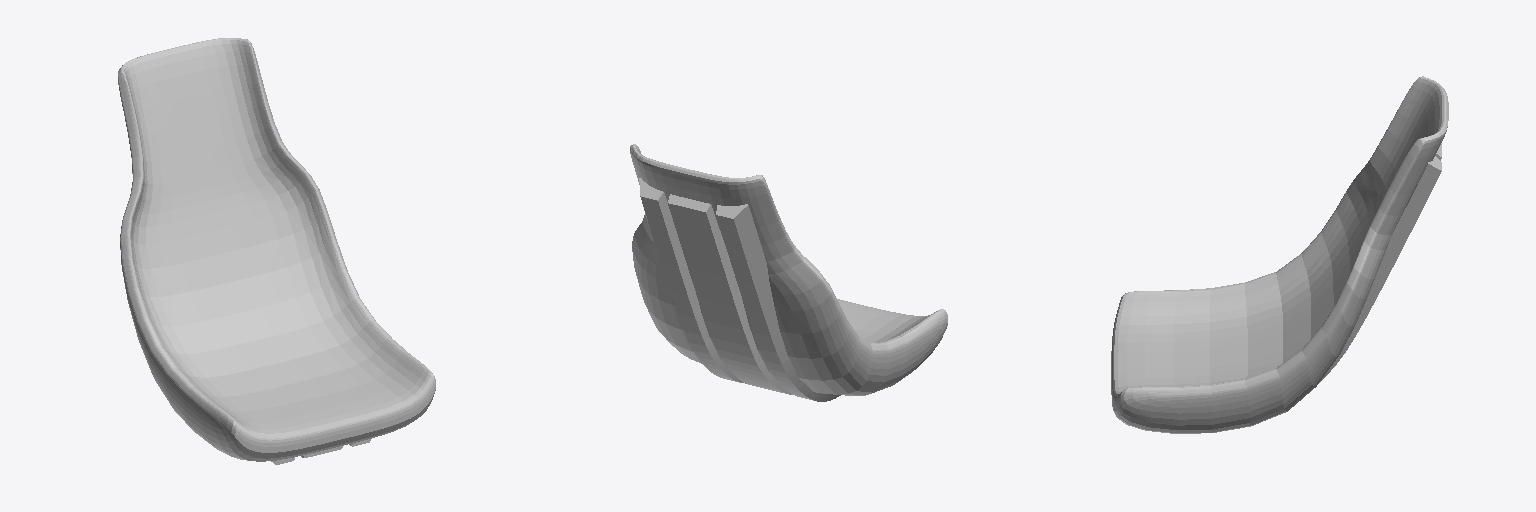
Rendered from Seat.obj.
3 renders of one model, left to right at view 1: azimuth 30°, elevation 25°; view 2: azimuth 150°, elevation 25°; view 3: azimuth 270°, elevation 25°, orthographic.
Parts seen in each view (by area): view 1: Seat1 FighterChassis; view 2: Seat1 FighterChassis; view 3: Seat1 FighterChassis.
Boxes of the visible parts, box(x1,y1,x2,y2) form: Seat1 FighterChassis: box(118, 38, 435, 464); Seat1 FighterChassis: box(630, 144, 947, 401); Seat1 FighterChassis: box(1111, 76, 1448, 433).
Bounding box in the file's own units: 46.18 × 62.25 × 63.98.